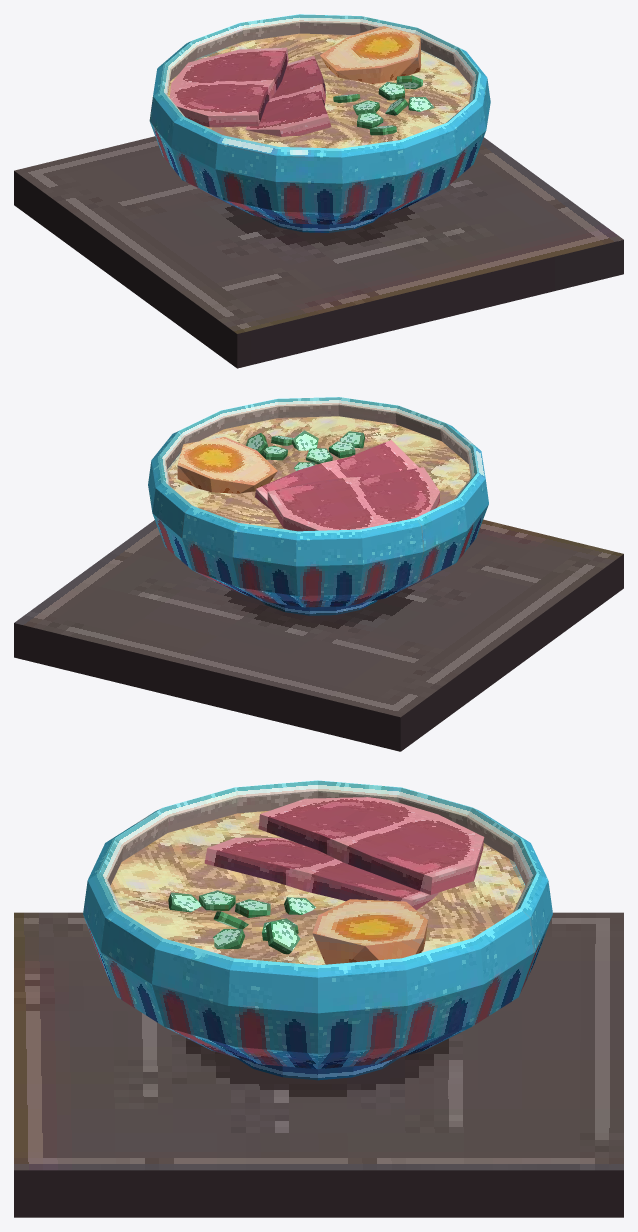
File: medianoche.glb
3 views of the same model, one above another, from view 1: azimuth 30°, elevation 25°; view 2: azimuth 150°, elevation 25°; view 3: azimuth 270°, elevation 25° (orthographic). The views are drawn at different scales.
Visible parts, largest first — view 1: Cube_ramen_0; view 2: Cube_ramen_0; view 3: Cube_ramen_0.
Part boxes in pixels (x1,y1,x2,y2): Cube_ramen_0: (14, 14, 623, 368); Cube_ramen_0: (14, 397, 623, 751); Cube_ramen_0: (14, 780, 623, 1217).
Size of the model in its own units: 1 by 0.4008 by 1.
1 material, 1 textured.
